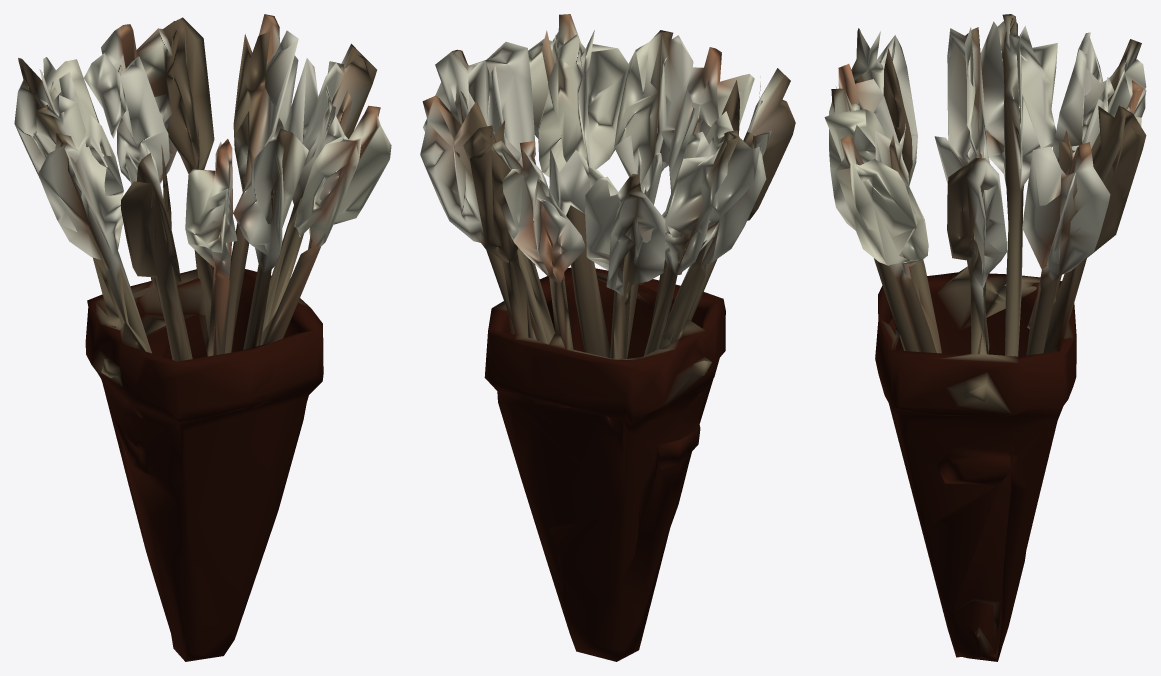
The model's file is gen3d-quiver-lod0.glb.
3 views of the same model, side by side, from view 1: azimuth 30°, elevation 25°; view 2: azimuth 150°, elevation 25°; view 3: azimuth 270°, elevation 25° (orthographic).
Visible parts, largest first — view 1: part_0; view 2: part_0; view 3: part_0.
Part boxes in pixels (left/top/right/bottom): part_0: left=14, top=14, right=391, bottom=661; part_0: left=420, top=14, right=795, bottom=661; part_0: left=824, top=14, right=1146, bottom=661.
Size of the model in its own units: 0.6054 by 0.9979 by 0.508.
